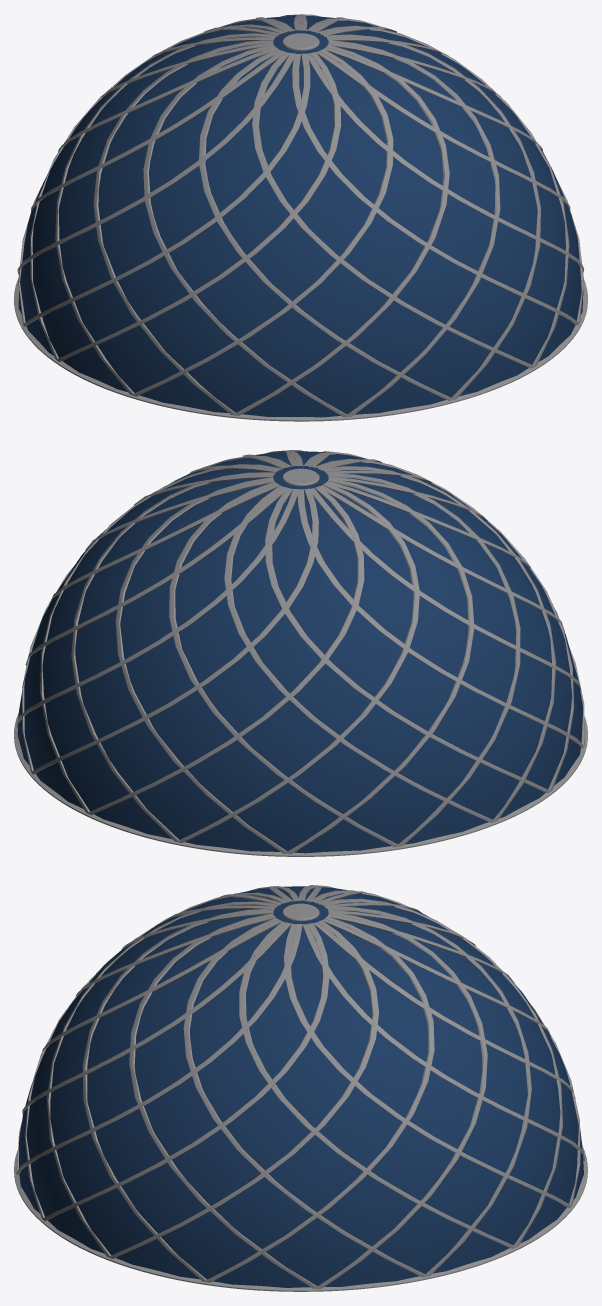
Rendered from SM_Dome_02.fbx.
3 renders of one model, top to bottom at view 1: azimuth 30°, elevation 25°; view 2: azimuth 150°, elevation 25°; view 3: azimuth 270°, elevation 25°, orthographic.
Parts seen in each view (by area): view 1: SM_Dome_02_LOD0; view 2: SM_Dome_02_LOD0; view 3: SM_Dome_02_LOD0.
Boxes of the visible parts, left/top/right/bottom form: SM_Dome_02_LOD0: left=14, top=14, right=587, bottom=421; SM_Dome_02_LOD0: left=14, top=450, right=587, bottom=856; SM_Dome_02_LOD0: left=14, top=885, right=587, bottom=1291.
Size of the model in its own units: 7290 by 7290 by 3639.
Materials: 2 (2 with a texture image).
